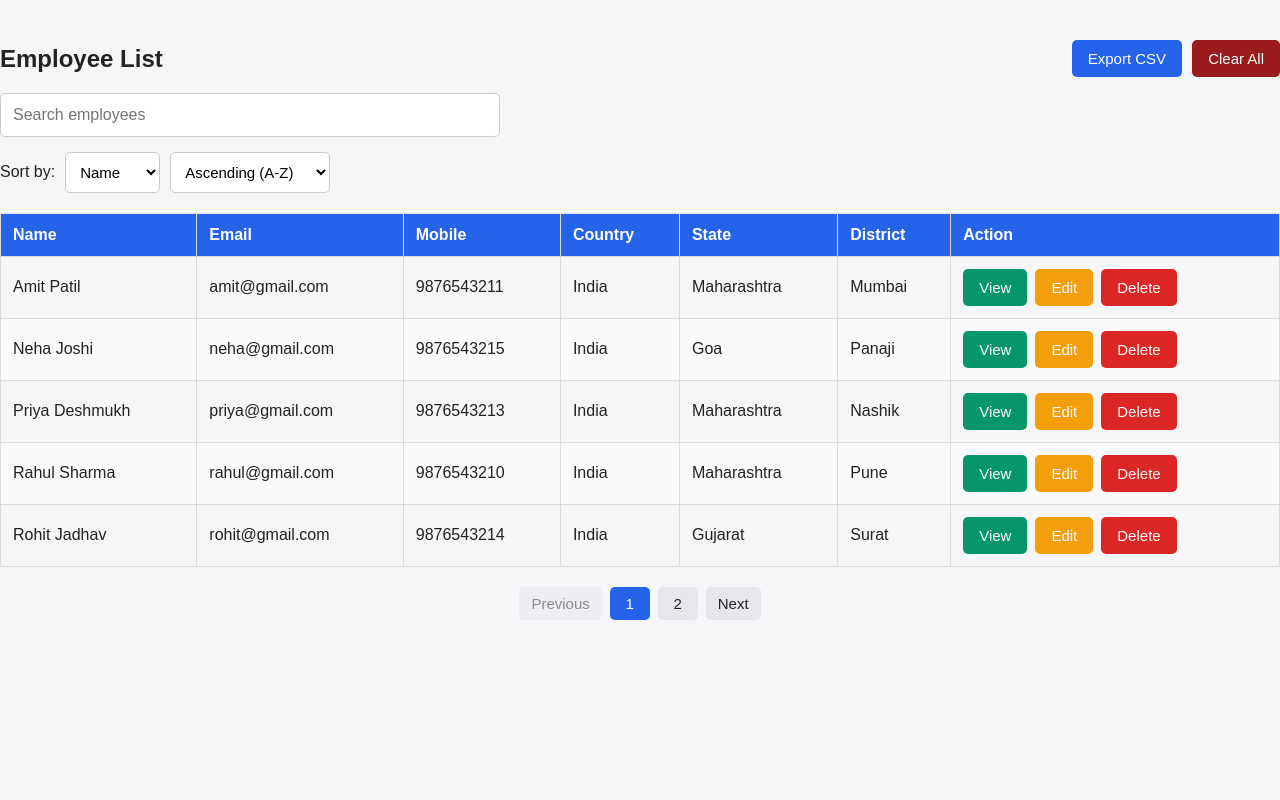
EmployeeList › opens Clear All dialog when Clear All is clicked
Step 1. Click the button "Clear All" → [1236, 59], box [1192,40,1279,78]
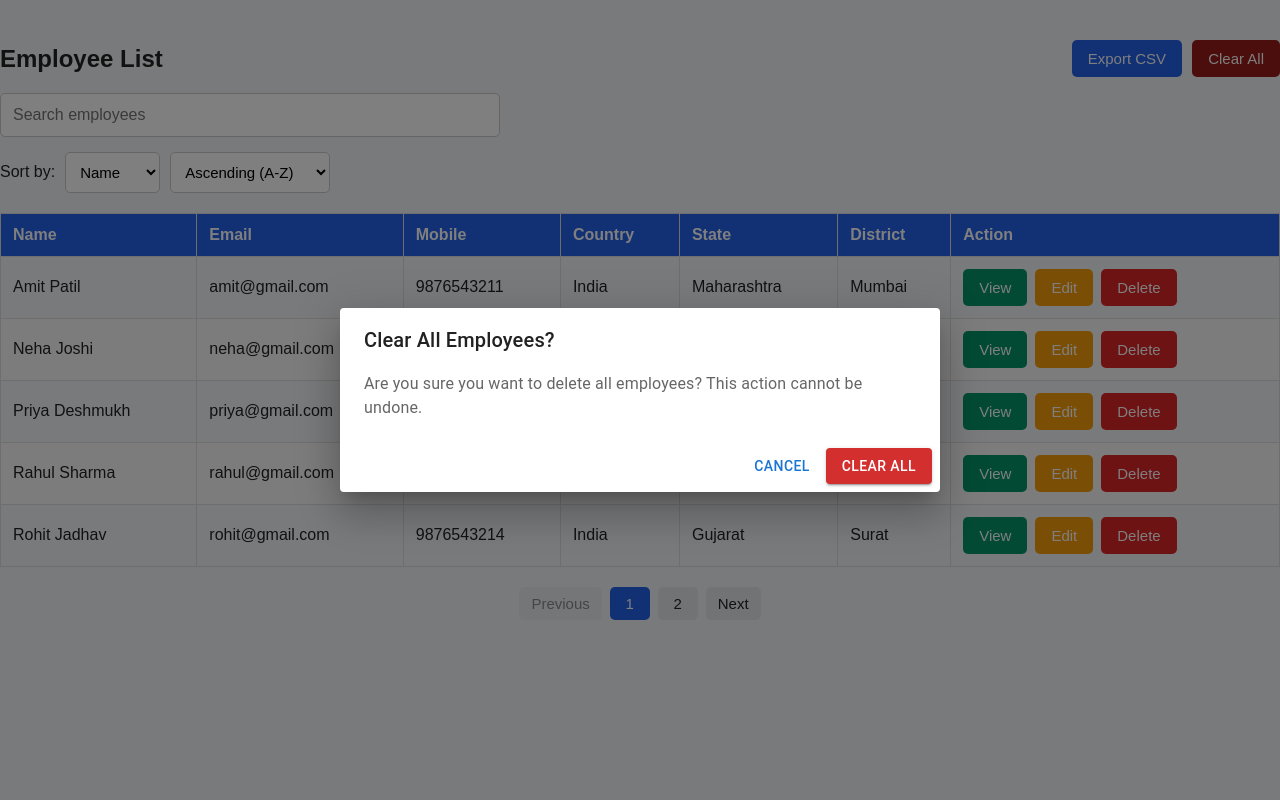
Check: the heading "Clear All Employees?" is shown, box [364,328,555,352]
